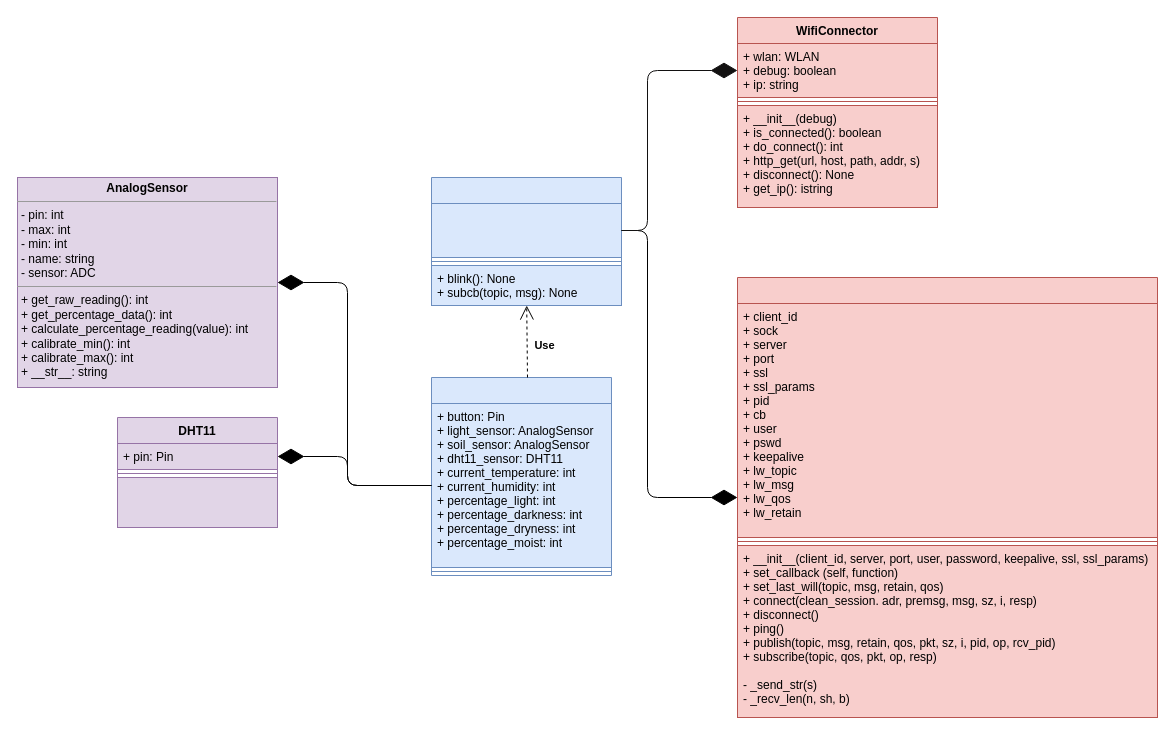
Some shapes in this 1175 by 738 pixel diagram are drawn without their labels. The shapes that lost their labels are listed below. From the top down, each one's box as (x1, y1, x2, y2) in pixels, then its label:
(430, 202, 622, 258): + build_in_led: Pin + wifi_connector: WifIConnector + mqtt_client: MQTTClient
(430, 176, 622, 306): boot
(430, 376, 612, 576): main
(116, 476, 278, 528): + measure() + temperature() + humidity()
(736, 276, 1158, 718): MQTTClient
